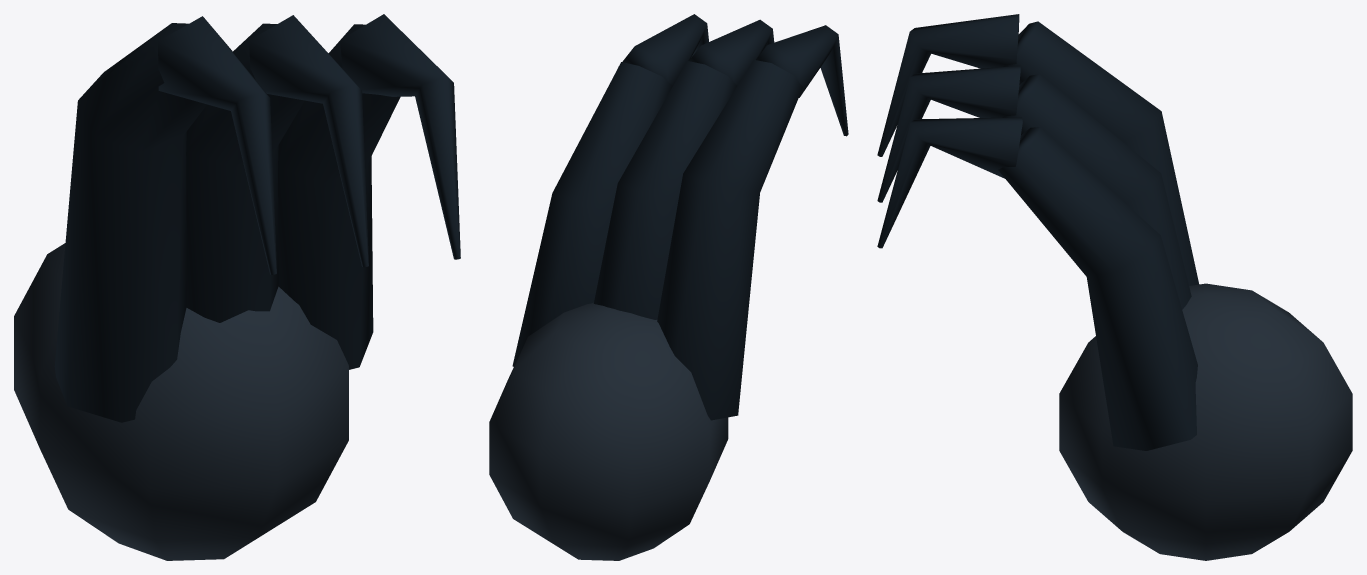
Rendered from L_Wing_Hand.obj.
The picture shows the model from 3 angles, left to right: view 1: azimuth 30°, elevation 25°; view 2: azimuth 150°, elevation 25°; view 3: azimuth 270°, elevation 25°; orthographic projection. The views are drawn at different scales.
Parts seen in each view (by area): view 1: L_Wing_Hand; view 2: L_Wing_Hand; view 3: L_Wing_Hand.
Part boxes in pixels (box(x1,y1,x2,y2)): L_Wing_Hand: box(14, 14, 460, 560); L_Wing_Hand: box(489, 14, 848, 560); L_Wing_Hand: box(877, 14, 1352, 560).
Bounding box in the file's own units: 0.8556 × 1.74 × 1.52.
